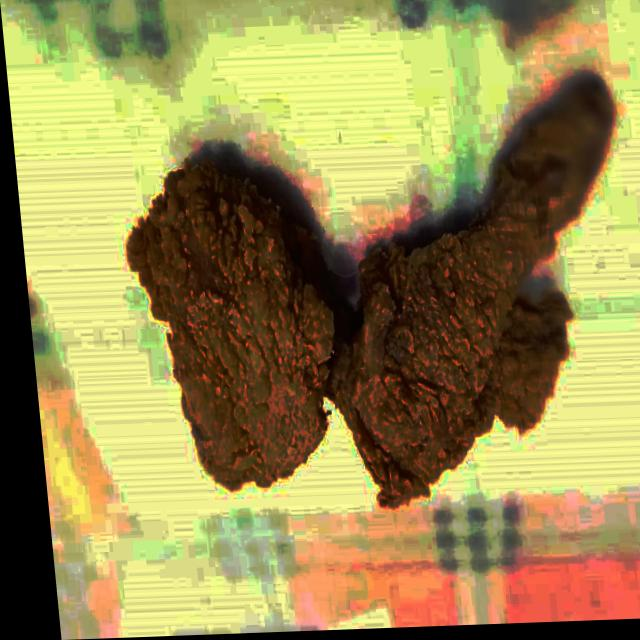fried_chicken: (309, 84, 640, 514), (112, 132, 364, 539)
